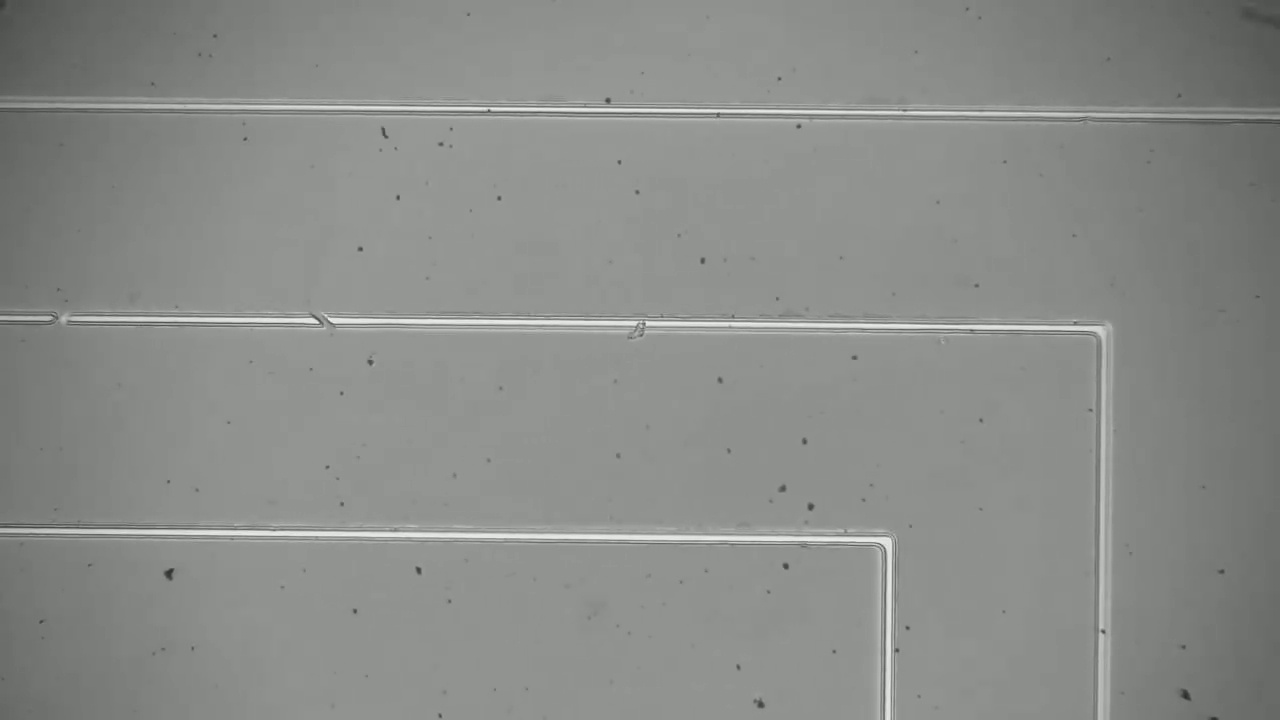open: (301, 294, 345, 336), (40, 301, 82, 337)
stains_enbedded: (619, 299, 656, 351)
